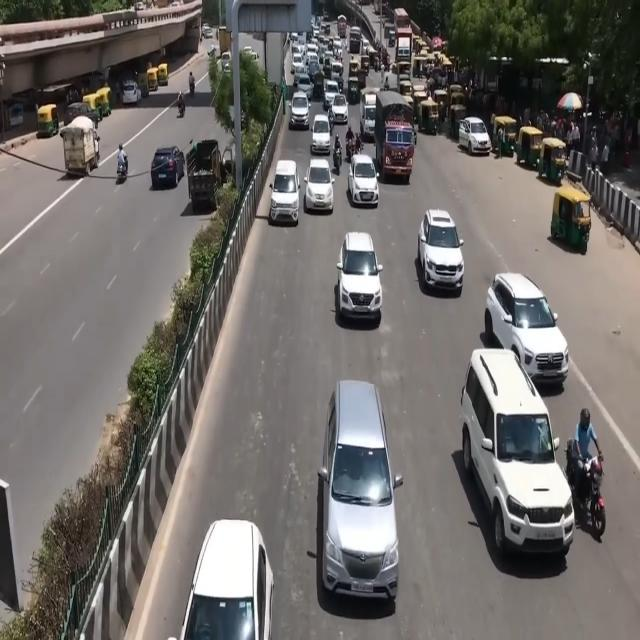auto: (550, 182, 592, 252), (538, 136, 568, 184), (516, 125, 544, 169), (492, 114, 519, 158), (416, 94, 438, 136), (37, 104, 60, 139), (433, 87, 450, 127), (82, 91, 102, 120), (95, 87, 112, 118), (136, 70, 150, 97), (146, 67, 159, 91), (348, 54, 361, 78), (156, 63, 168, 87)
bike-auto: (565, 439, 606, 538), (333, 133, 342, 172), (116, 155, 128, 183), (346, 137, 354, 164), (177, 90, 185, 116), (327, 109, 334, 136), (189, 77, 195, 95)
